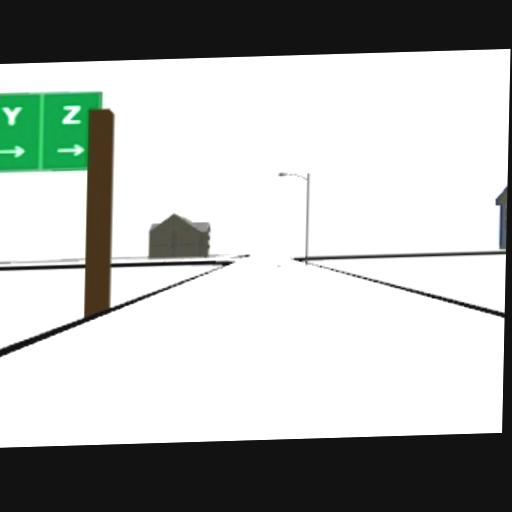Right: (55, 143, 84, 157), (0, 145, 26, 158)
Y: (1, 105, 22, 126)
Z: (59, 103, 82, 124)
